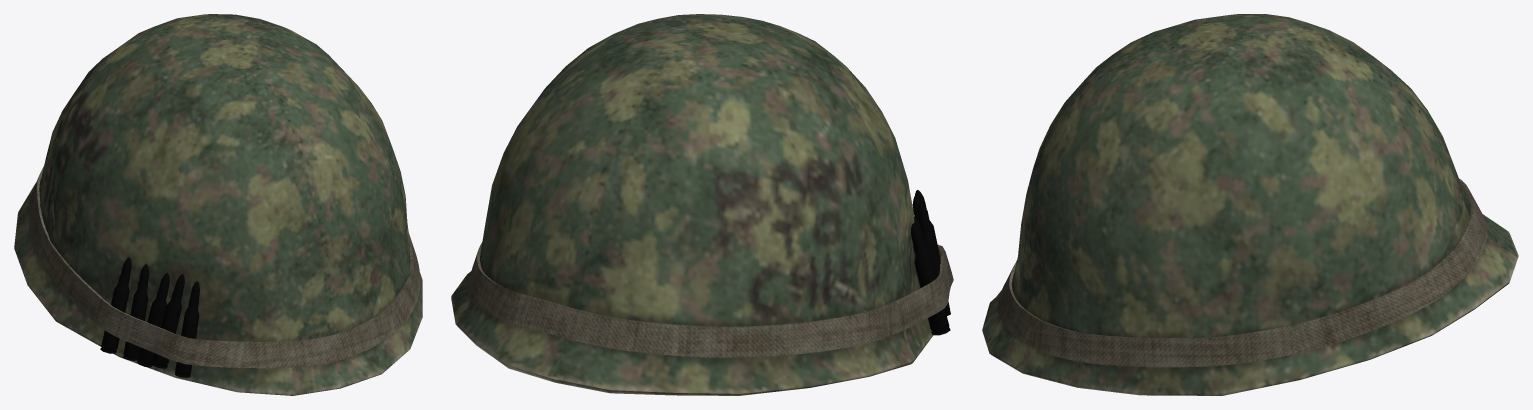
Rendered from helmet_m1.836919ab29.glb.
The picture shows the model from 3 angles, left to right: view 1: azimuth 30°, elevation 25°; view 2: azimuth 150°, elevation 25°; view 3: azimuth 270°, elevation 25°; orthographic projection. The views are drawn at different scales.
Parts seen in each view (by area): view 1: helmet_m1_0, helmet_m1_1, helmet_m1_2; view 2: helmet_m1_0, helmet_m1_1, helmet_m1_2; view 3: helmet_m1_0, helmet_m1_1.
Part boxes in pixels (<box>): helmet_m1_0: <box>14,14,422,395</box>; helmet_m1_1: <box>28,166,420,368</box>; helmet_m1_2: <box>100,257,199,377</box>; helmet_m1_0: <box>451,14,932,395</box>; helmet_m1_1: <box>467,242,953,357</box>; helmet_m1_2: <box>911,190,950,335</box>; helmet_m1_0: <box>982,14,1518,395</box>; helmet_m1_1: <box>998,178,1488,367</box>.
Size of the model in its own units: 0.2302 by 0.1694 by 0.2756.
3 materials, 2 textured.
